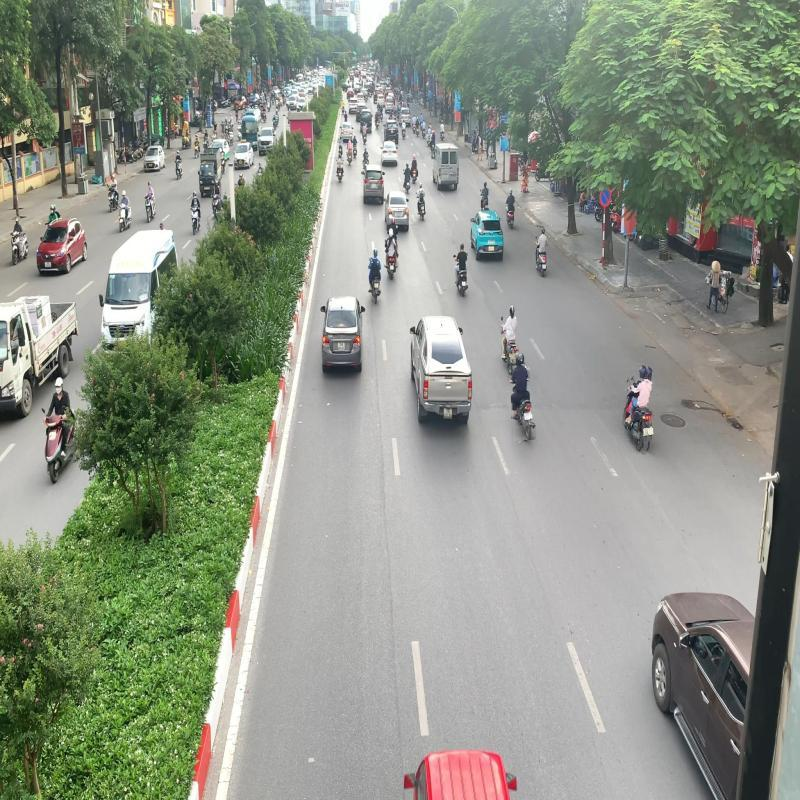helmet: (638, 365, 648, 379), (519, 353, 526, 364)
licenseplate: (646, 426, 654, 435), (524, 412, 531, 420)
motorcyclist: (621, 364, 657, 454), (508, 353, 534, 442)
